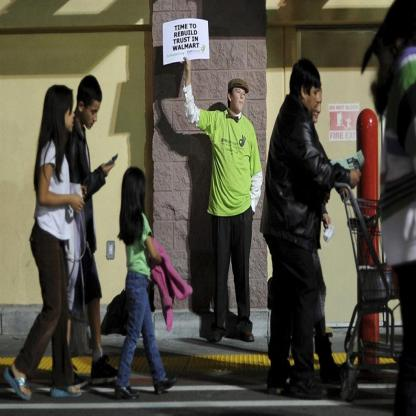face: (85, 99, 102, 130), (307, 81, 321, 116), (64, 98, 76, 133), (233, 88, 246, 112), (313, 90, 322, 124)
